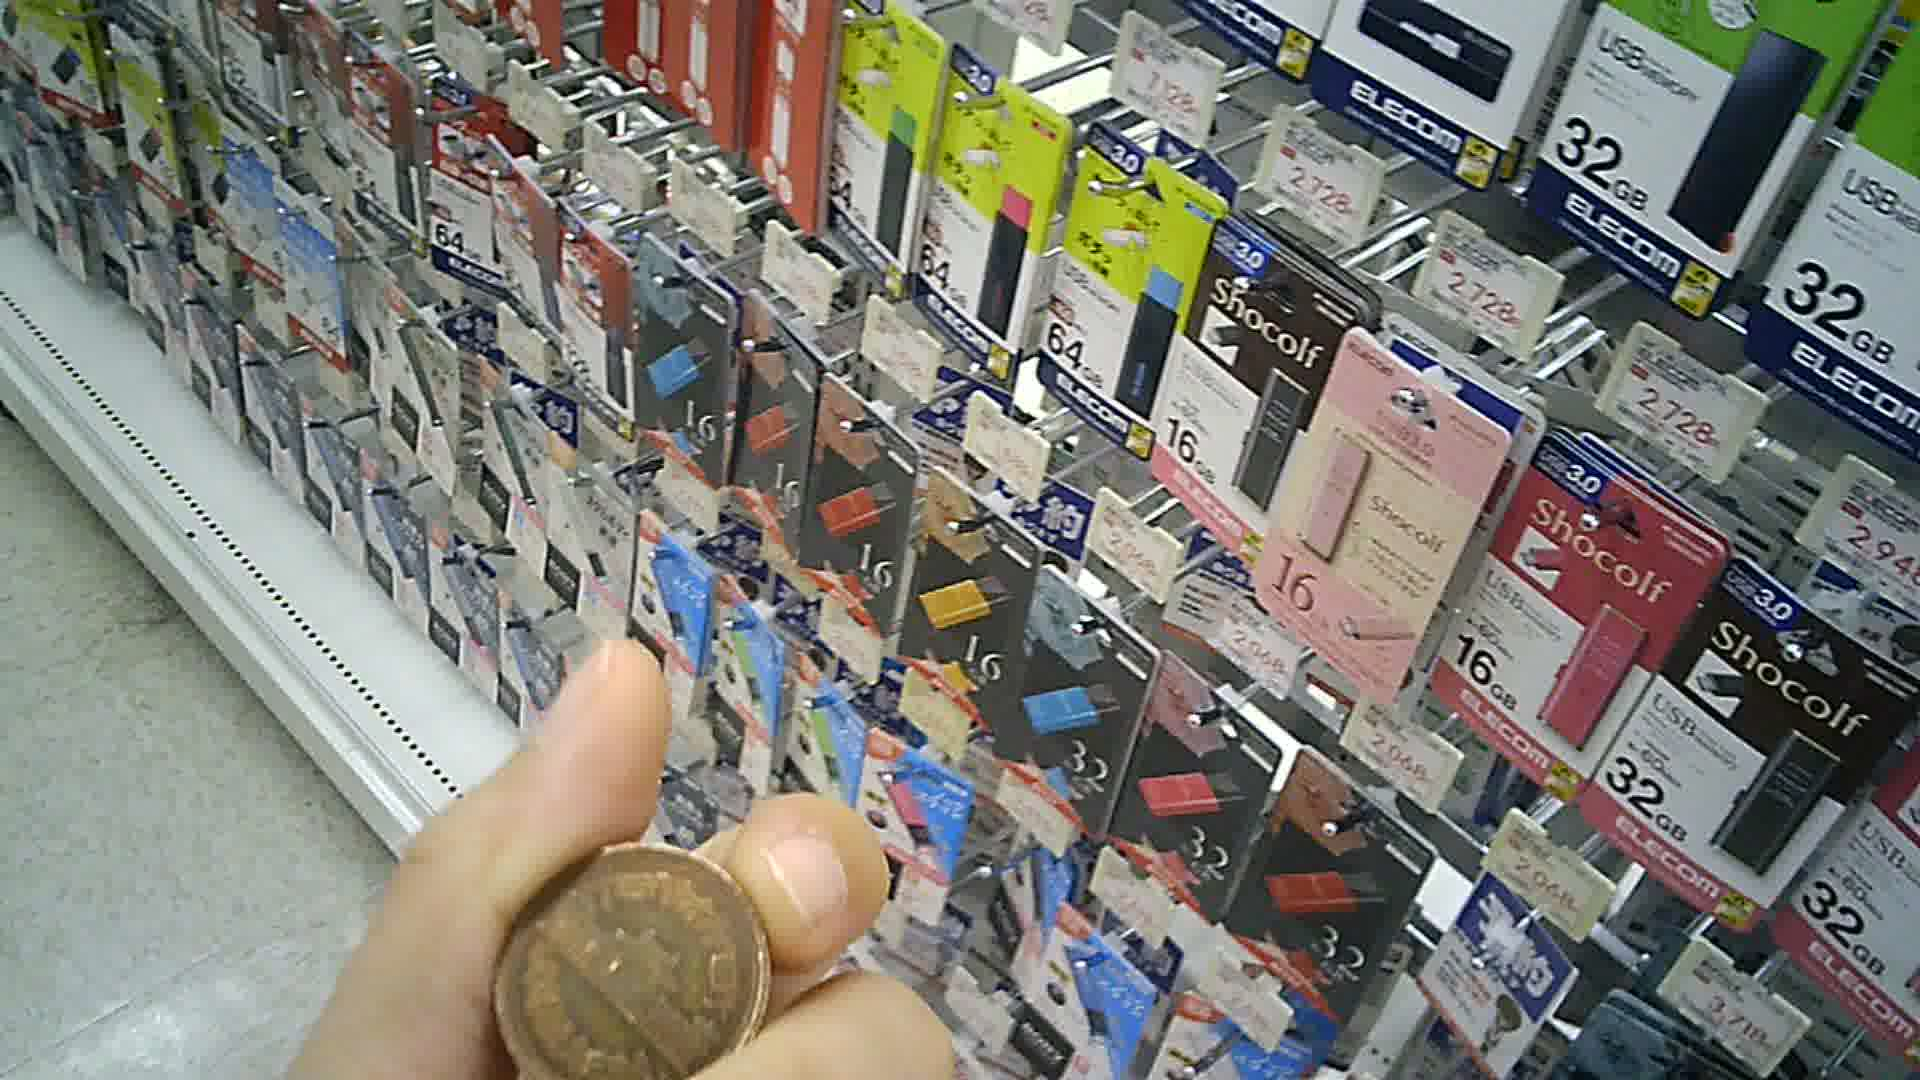10 Yen: (469, 841, 778, 1071)
